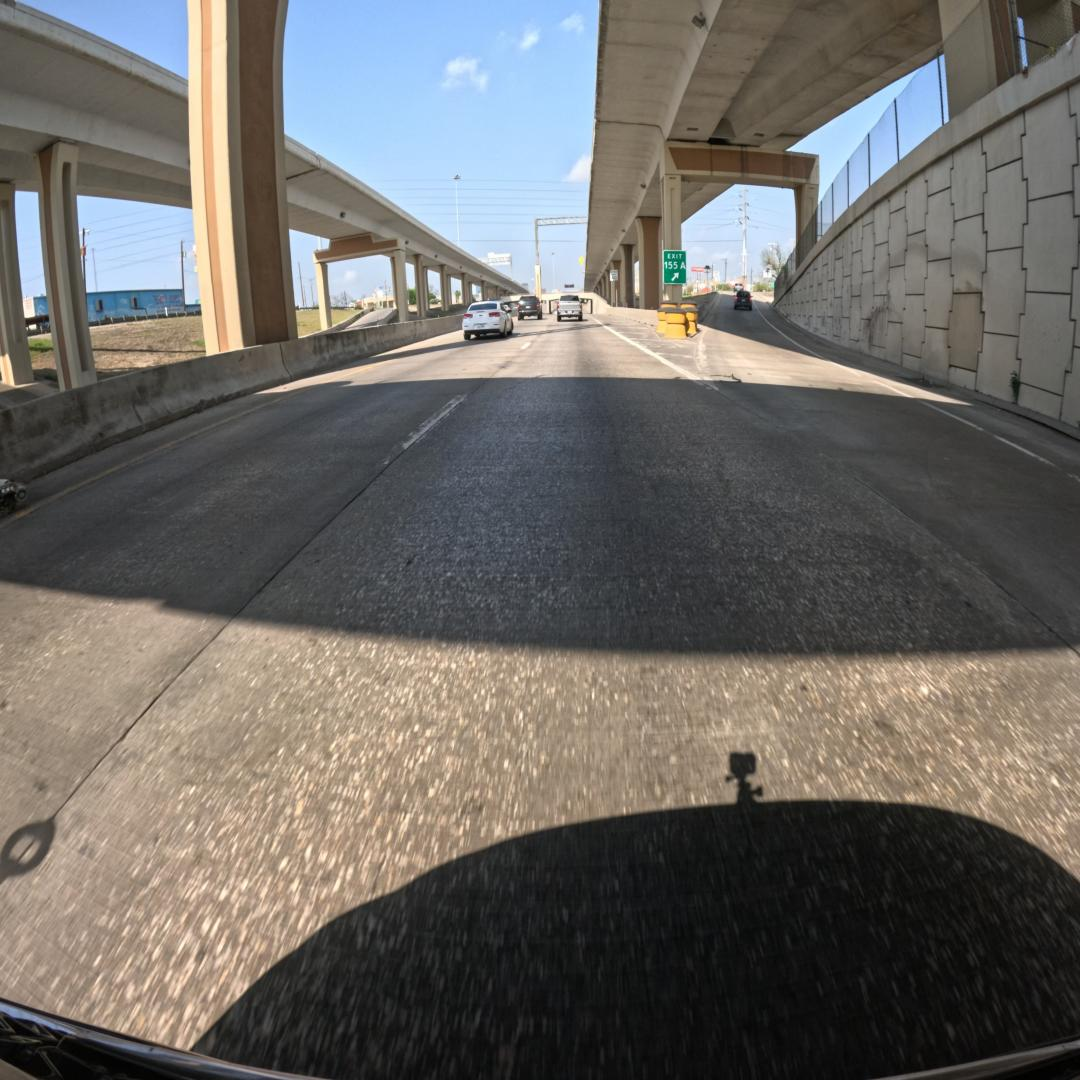lane0: (0, 327, 1080, 1080)
lane1: (0, 338, 518, 881)
